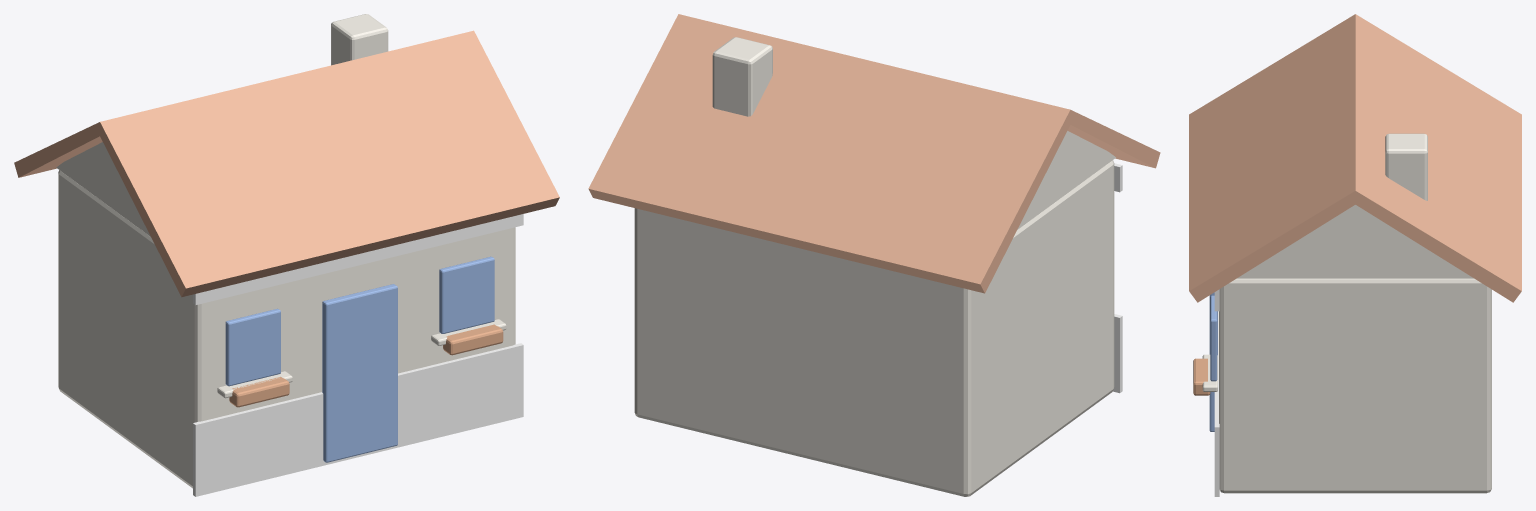
File: vg_portugal_house.glb
The picture shows the model from 3 angles, left to right: view 1: azimuth 30°, elevation 25°; view 2: azimuth 150°, elevation 25°; view 3: azimuth 270°, elevation 25°; orthographic projection. The views are drawn at different scales.
Visible parts, largest first — view 1: vg_portugal_house; view 2: vg_portugal_house; view 3: vg_portugal_house.
Part boxes in pixels (<box>): vg_portugal_house: <box>14,14,559,496</box>; vg_portugal_house: <box>588,14,1160,496</box>; vg_portugal_house: <box>1189,14,1521,496</box>.
Size of the model in its own units: 4.9 by 4.2 by 3.9.
